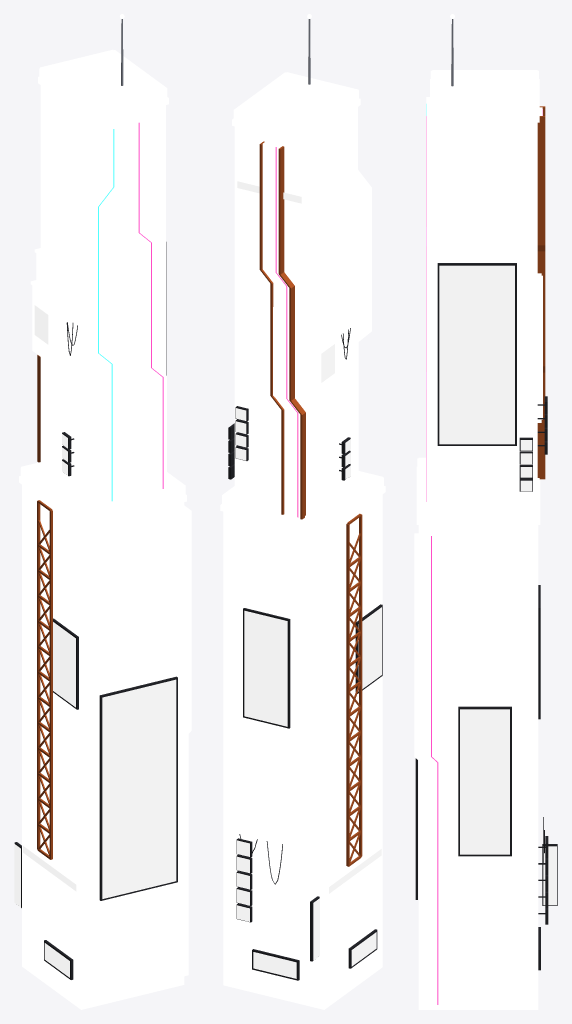
The model's file is k_tower_g.glb.
3 views of the same model, side by side, from view 1: azimuth 30°, elevation 25°; view 2: azimuth 150°, elevation 25°; view 3: azimuth 270°, elevation 25° (orthographic). The views are drawn at different scales.
Visible parts, largest first — view 1: kit_dark, kit_grey, screen_atlas, steel_orange, kit_mid, metal_dark, neon_magenta, neon_cyan; view 2: kit_dark, kit_grey, screen_atlas, steel_orange, kit_mid, metal_dark, kit_hex, neon_magenta; view 3: kit_dark, screen_atlas, kit_grey, metal_dark, steel_orange, neon_magenta, kit_mid.
Part boxes in pixels (<box>): kit_dark: <box>22,62,184,1009</box>; kit_grey: <box>19,49,191,976</box>; screen_atlas: <box>14,305,176,977</box>; steel_orange: <box>37,355,52,859</box>; kit_mid: <box>32,54,132,502</box>; metal_dark: <box>14,242,177,979</box>; neon_magenta: <box>138,122,163,488</box>; neon_cyan: <box>98,129,114,501</box>; kit_dark: <box>223,82,382,1009</box>; kit_grey: <box>220,72,385,536</box>; screen_atlas: <box>236,181,381,978</box>; steel_orange: <box>259,141,362,866</box>; kit_mid: <box>250,81,356,517</box>; metal_dark: <box>228,328,382,980</box>; kit_hex: <box>253,301,275,438</box>; neon_magenta: <box>275,147,298,517</box>; kit_dark: <box>418,80,538,1009</box>; screen_atlas: <box>439,265,556,905</box>; kit_grey: <box>414,70,542,1004</box>; metal_dark: <box>415,263,557,970</box>; steel_orange: <box>537,106,545,479</box>; neon_magenta: <box>426,109,542,1004</box>; kit_mid: <box>450,76,529,105</box>.
Size of the model in its own units: 15.39 by 126 by 16.84.
